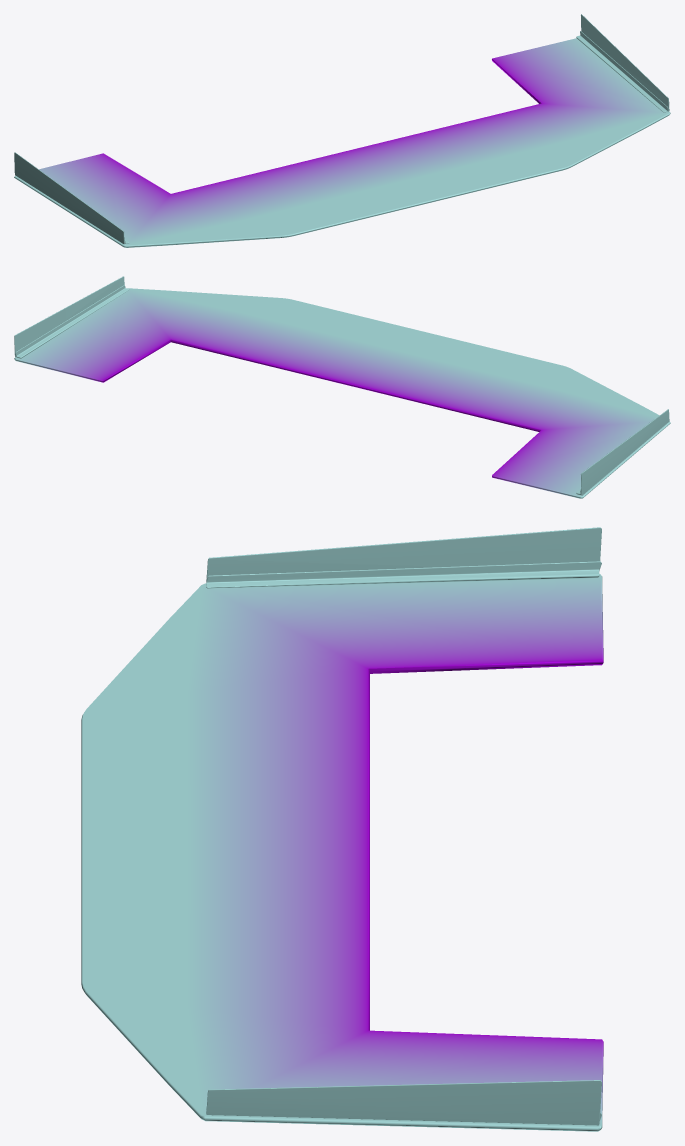
File: Car_Buick_GrandNational_1987_Splitter_SetBF.fbx
3 views of the same model, one above another, from view 1: azimuth 30°, elevation 25°; view 2: azimuth 150°, elevation 25°; view 3: azimuth 270°, elevation 25° (orthographic). The views are drawn at different scales.
Visible parts, largest first — view 1: Splitter 6; view 2: Splitter 6; view 3: Splitter 6.
Boxes of the visible parts, x1,y1,x2,y2 form: Splitter 6: [14, 14, 670, 247]; Splitter 6: [14, 276, 670, 498]; Splitter 6: [81, 527, 603, 1131].
Bounding box in the file's own units: 1.8 × 0.0773 × 0.7143.
